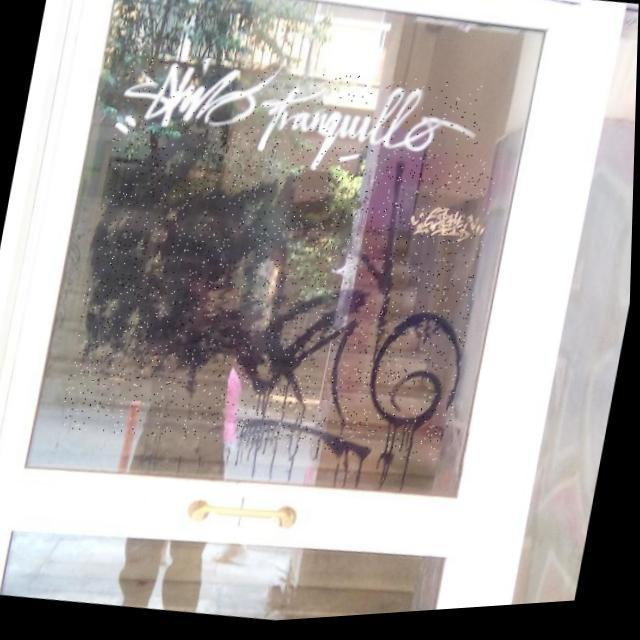-: (61, 103, 502, 490), (110, 35, 490, 211), (406, 203, 491, 258)
